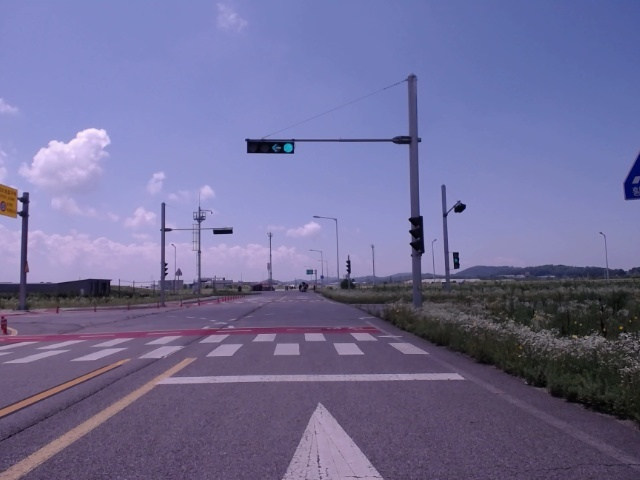all_green_4: (247, 138, 294, 153)
